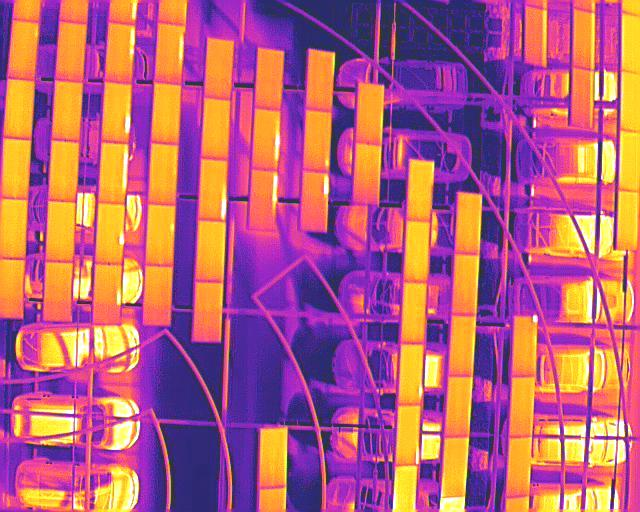Cell: (92, 264, 122, 326), (98, 204, 128, 264), (148, 204, 176, 266), (305, 110, 331, 172), (399, 345, 425, 405), (512, 316, 538, 376)
No-Anomaly: (198, 99, 231, 160), (192, 282, 224, 344), (48, 140, 80, 201), (0, 139, 32, 200), (52, 80, 83, 142), (151, 84, 183, 144), (7, 20, 39, 80), (55, 22, 87, 82), (46, 201, 77, 262), (196, 220, 226, 282), (205, 39, 235, 101), (5, 80, 36, 139), (255, 48, 284, 111), (145, 265, 174, 327), (454, 192, 483, 253), (0, 199, 29, 260), (446, 374, 474, 437), (44, 263, 73, 323), (150, 144, 178, 205), (407, 160, 435, 221), (406, 219, 433, 282), (354, 143, 380, 208), (441, 438, 470, 496), (358, 84, 385, 146), (259, 428, 287, 486), (308, 51, 335, 111), (509, 377, 536, 437), (402, 282, 428, 344), (524, 4, 548, 68), (0, 259, 25, 319), (508, 437, 533, 497), (452, 313, 476, 375), (615, 190, 639, 251), (572, 6, 594, 71), (456, 253, 479, 315), (571, 66, 593, 129), (396, 466, 419, 512)
Unclassified: (155, 23, 188, 84), (99, 142, 131, 204), (105, 22, 136, 85), (198, 158, 229, 220), (103, 81, 132, 144), (301, 171, 330, 234), (252, 109, 281, 170), (251, 169, 278, 231), (397, 405, 422, 465)
